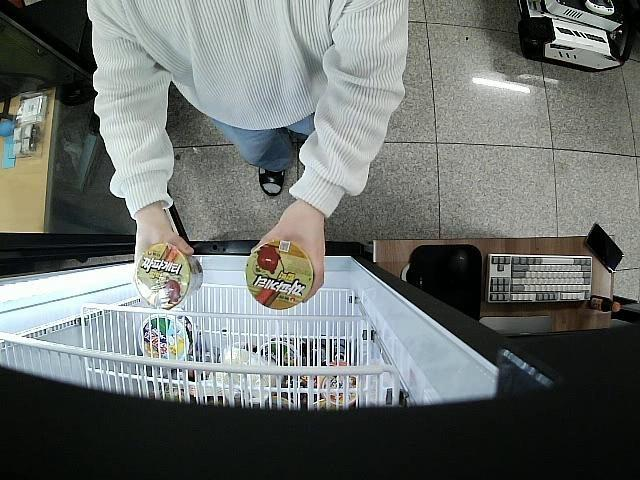04_chapagetti_S: (132, 246, 204, 311), (243, 239, 312, 306)
